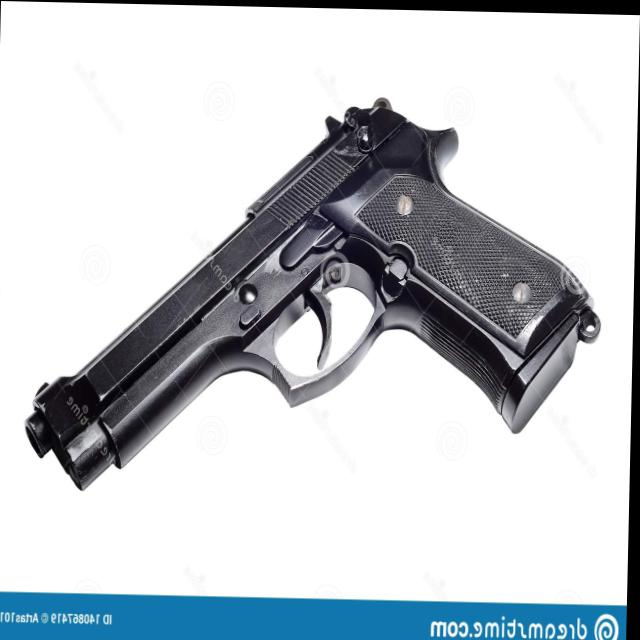handgun: (23, 83, 609, 498)
